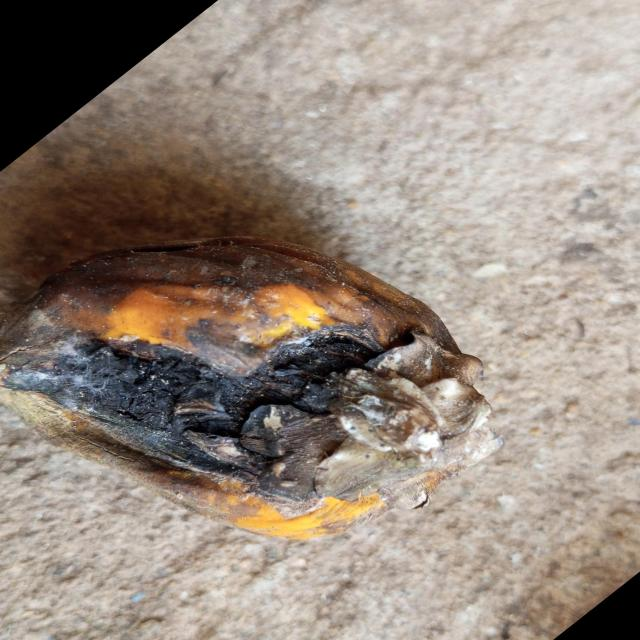damaged: (0, 215, 503, 544)
